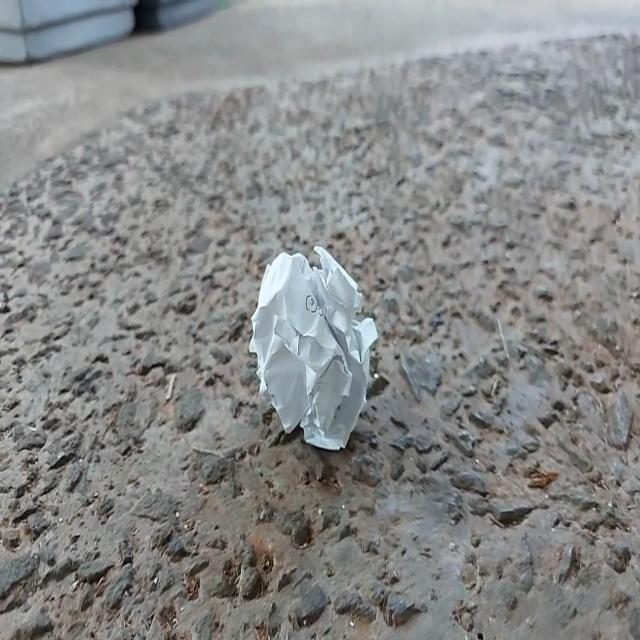paper: (232, 229, 392, 469)
